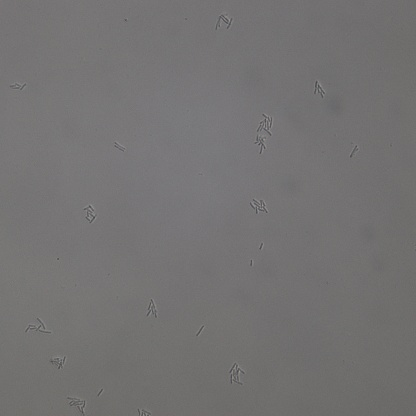R(colony): (25, 317, 50, 335), (65, 396, 88, 415), (228, 363, 246, 385), (257, 113, 274, 135), (214, 13, 232, 31), (49, 354, 68, 371), (82, 204, 98, 224), (250, 198, 268, 215), (146, 297, 159, 318), (314, 80, 326, 97), (256, 137, 268, 153), (10, 81, 27, 90), (113, 142, 126, 151)
